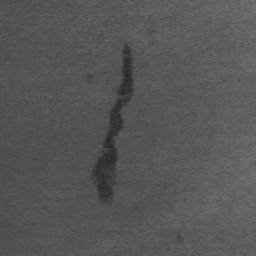Iron scale compression: (92, 45, 134, 205)
